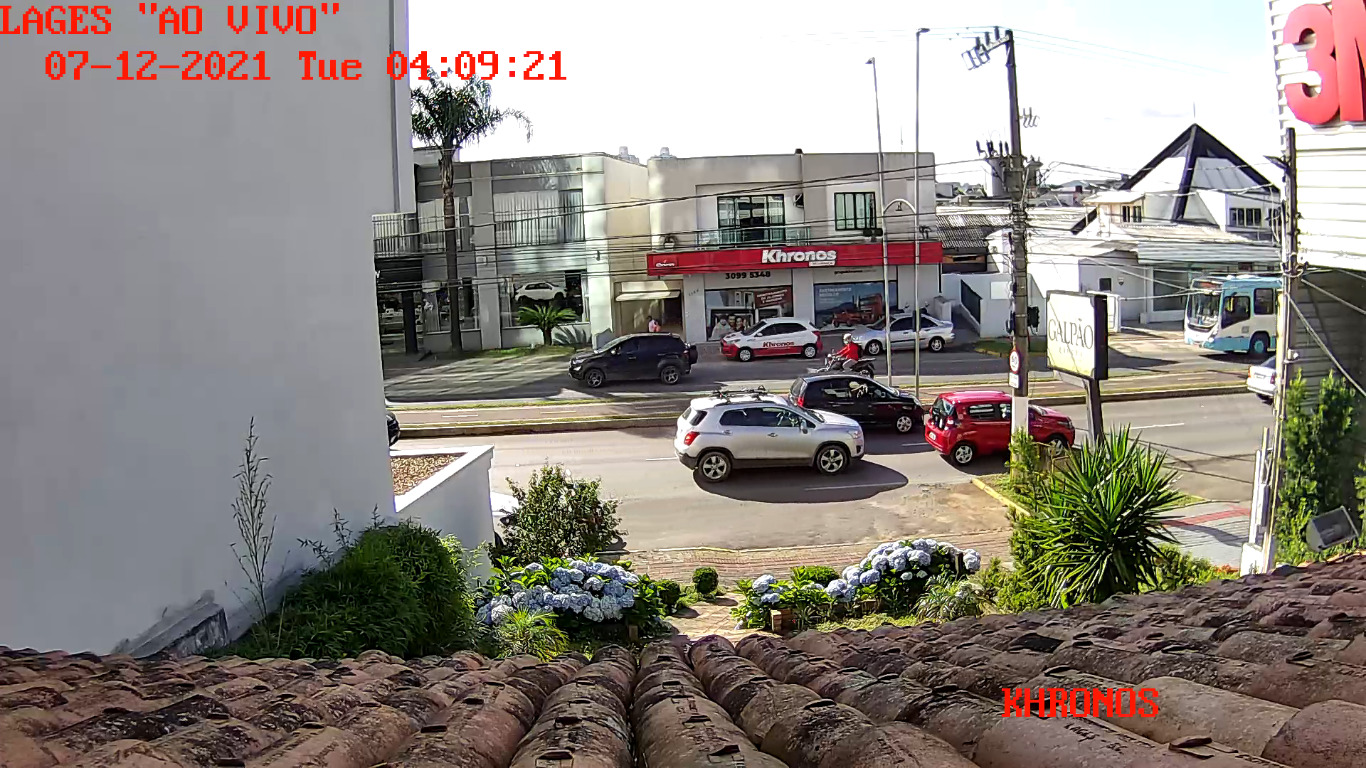car: (674, 392, 865, 482), (926, 389, 1076, 465), (788, 373, 923, 434)
